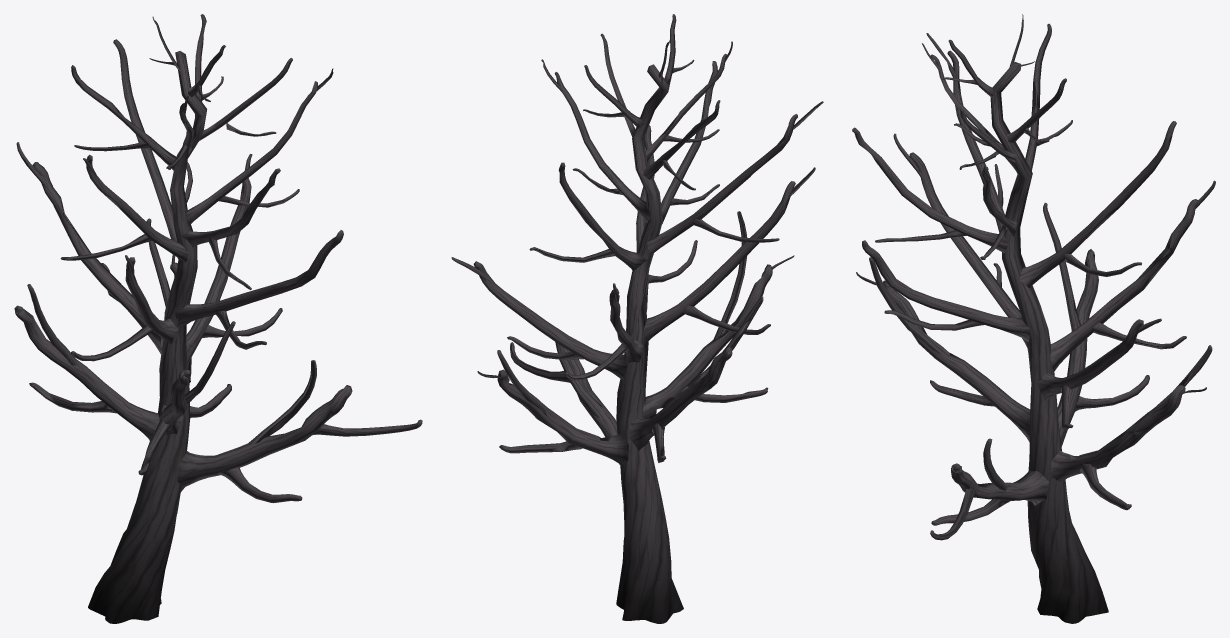
The model's file is DeadTree_2.glb.
The picture shows the model from 3 angles, left to right: view 1: azimuth 30°, elevation 25°; view 2: azimuth 150°, elevation 25°; view 3: azimuth 270°, elevation 25°; orthographic projection. The views are drawn at different scales.
Visible parts, largest first — view 1: DeadTree_2; view 2: DeadTree_2; view 3: DeadTree_2.
Part boxes in pixels (box(x1,y1,x2,y2)): DeadTree_2: box(14, 14, 422, 623); DeadTree_2: box(451, 14, 823, 623); DeadTree_2: box(852, 14, 1215, 623).
Bounding box in the file's own units: 6.73 × 11.49 × 6.38.
1 material, 1 textured.
